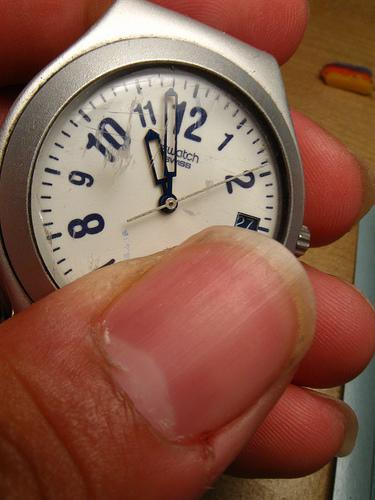watch: (3, 0, 316, 356)
